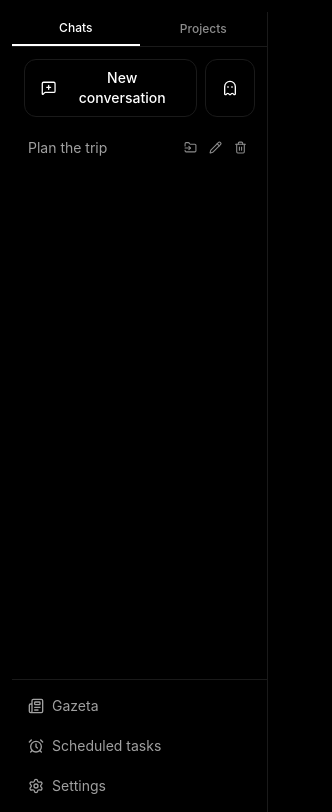
Sidebar: move a chat to a project › offers the projects of the user, and moves a quick chat into the one picked
Click the button named "Move Plan the trip to a project" at coordinates (190, 148), box [180,137,201,158]
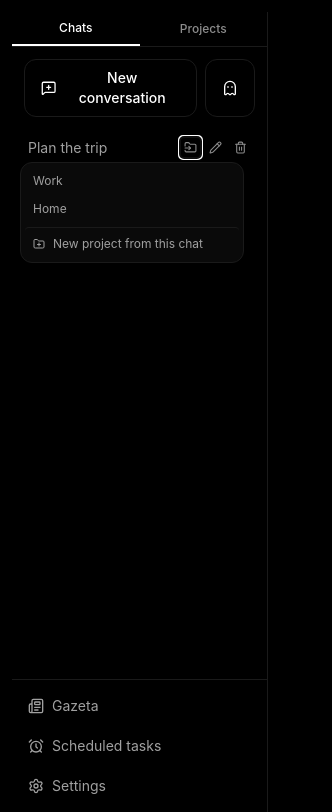
Check: the menu items read "Work", "Home", "New project from this chat", in this order
Click the menu item "Home" at coordinates (132, 209), box [25,195,239,223]
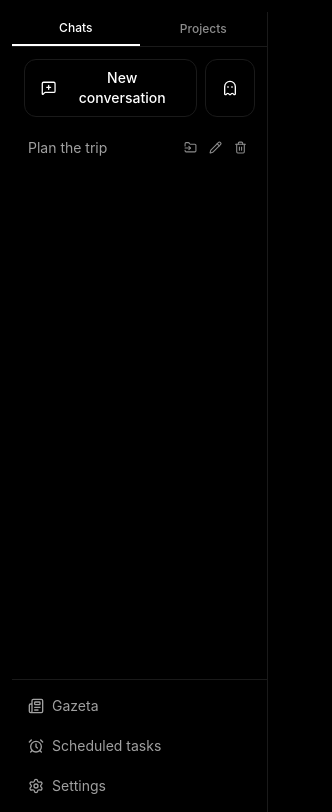
Check: the menu is gone
